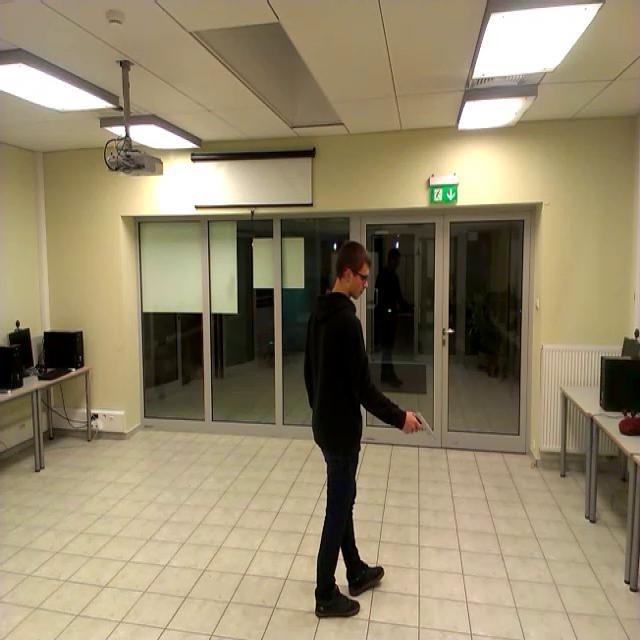Gun: (408, 410, 432, 436)
